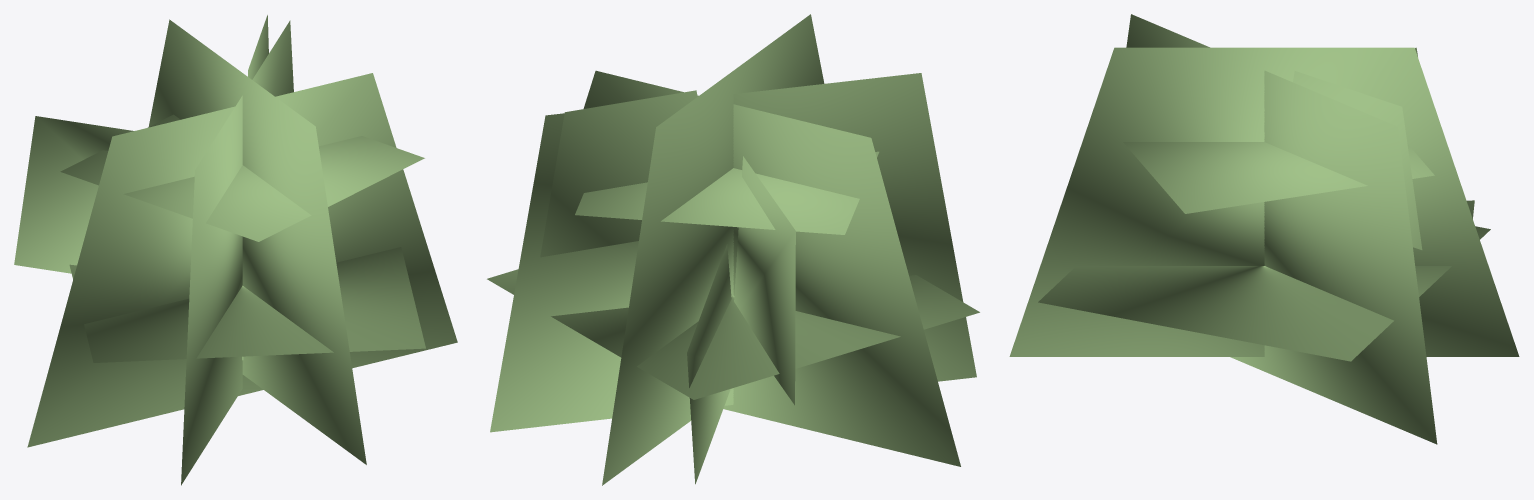
File: oak-canopy-unit-authored-atlas.glb
3 views of the same model, side by side, from view 1: azimuth 30°, elevation 25°; view 2: azimuth 150°, elevation 25°; view 3: azimuth 270°, elevation 25° (orthographic). The views are drawn at different scales.
Parts seen in each view (by area): view 1: Authored surface; view 2: Authored surface; view 3: Authored surface.
Boxes of the visible parts, x1,y1,x2,y2 form: Authored surface: (14,15,457,485); Authored surface: (487,14,979,485); Authored surface: (1009,14,1519,444).
Bounding box in the file's own units: 4.4 × 3.15 × 4.4.
1 material, 1 textured.
